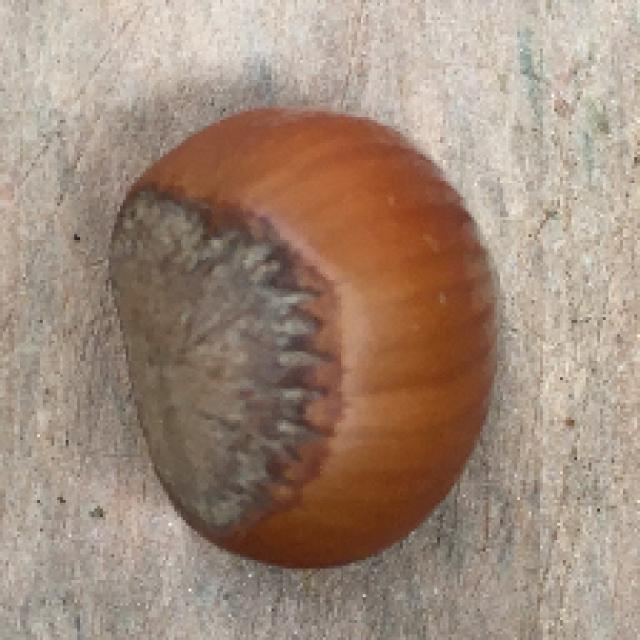qualityHazelnut: (113, 106, 508, 572)
